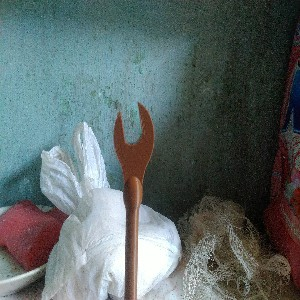spanner: (112, 102, 155, 300)
